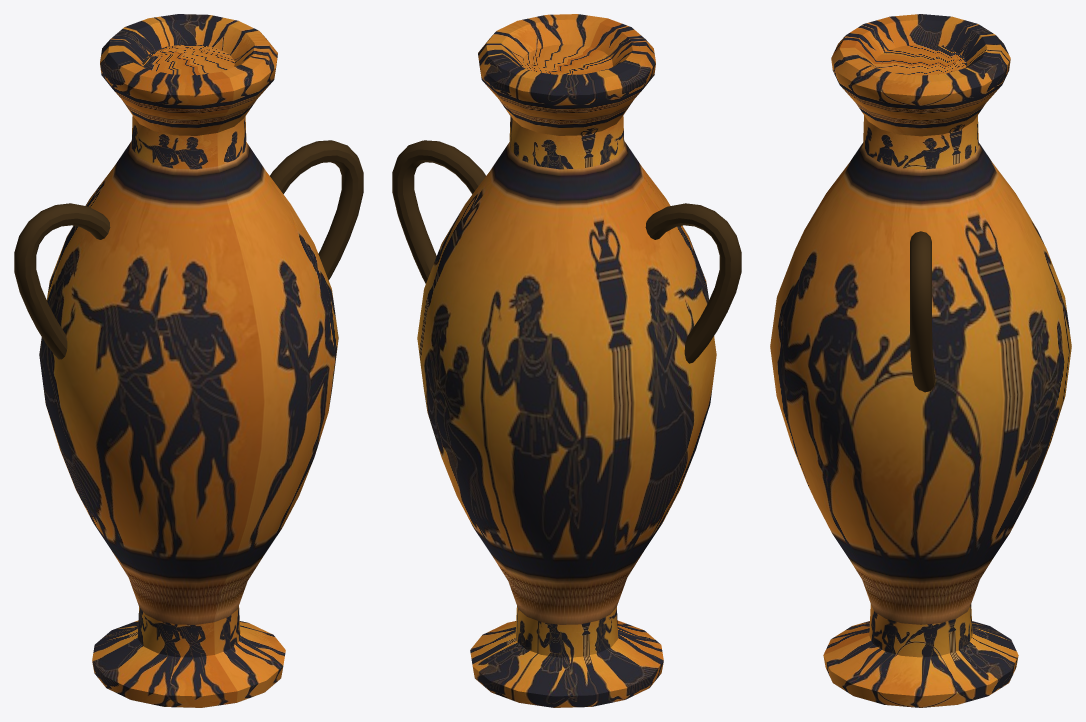
Rendered from vase.glb.
3 views of the same model, side by side, from view 1: azimuth 30°, elevation 25°; view 2: azimuth 150°, elevation 25°; view 3: azimuth 270°, elevation 25° (orthographic).
Parts seen in each view (by area): view 1: Cylinder_2; view 2: Cylinder_2; view 3: Cylinder_2.
Boxes of the visible parts, bbox=[...] form: Cylinder_2: bbox=[14, 14, 363, 707]; Cylinder_2: bbox=[392, 14, 741, 707]; Cylinder_2: bbox=[770, 14, 1071, 707].
Size of the model in its own units: 6.05 by 10.35 by 4.56.
Materials: 2 (1 with a texture image).
